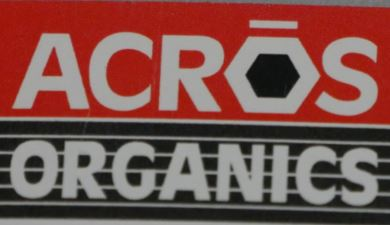AcrosOrganics: (8, 19, 381, 207)
